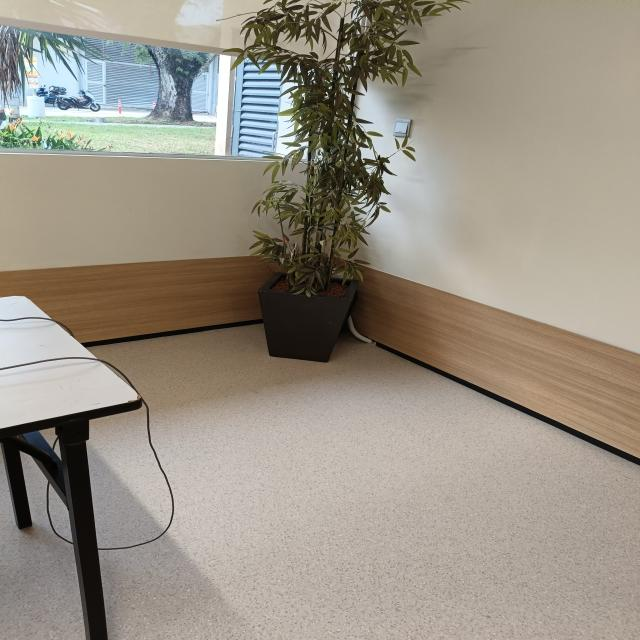Pot: (258, 271, 359, 362)
